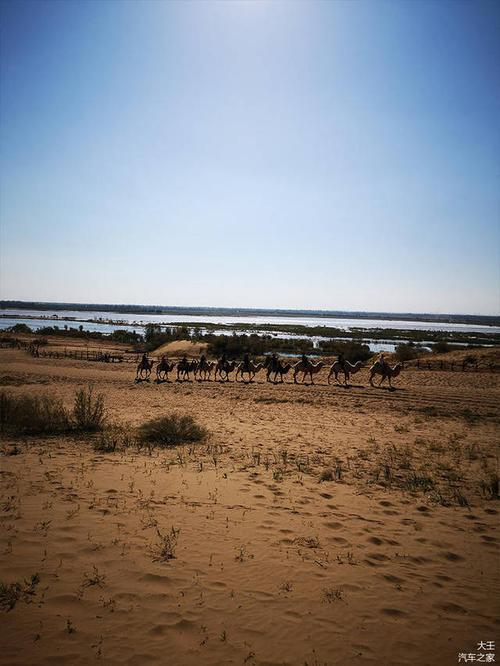sky_cloud: (17, 71, 481, 301)
